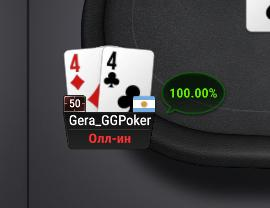4c: (101, 47, 155, 112)
4d: (64, 48, 102, 112)
